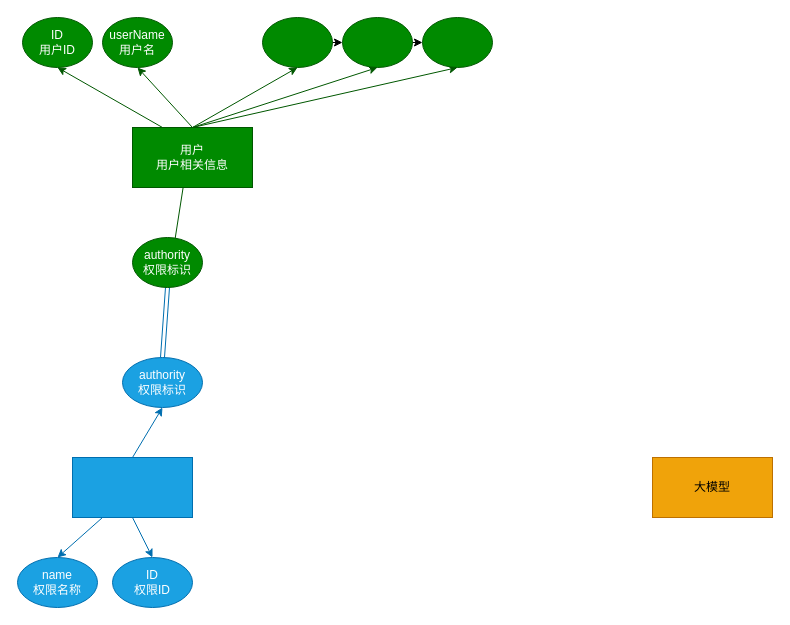
Some shapes in this 790 by 625 pixel diagram are drawn without their labels. Here are the shapes that lost their labels. From the top down, the centre of each, then its label:
At (x=297, y=42): "password 密码".
At (x=377, y=42): "integral 积分".
At (x=457, y=42): "phone 手机号".
At (x=132, y=487): "权限 账号权限 1普通用户 2会员".
